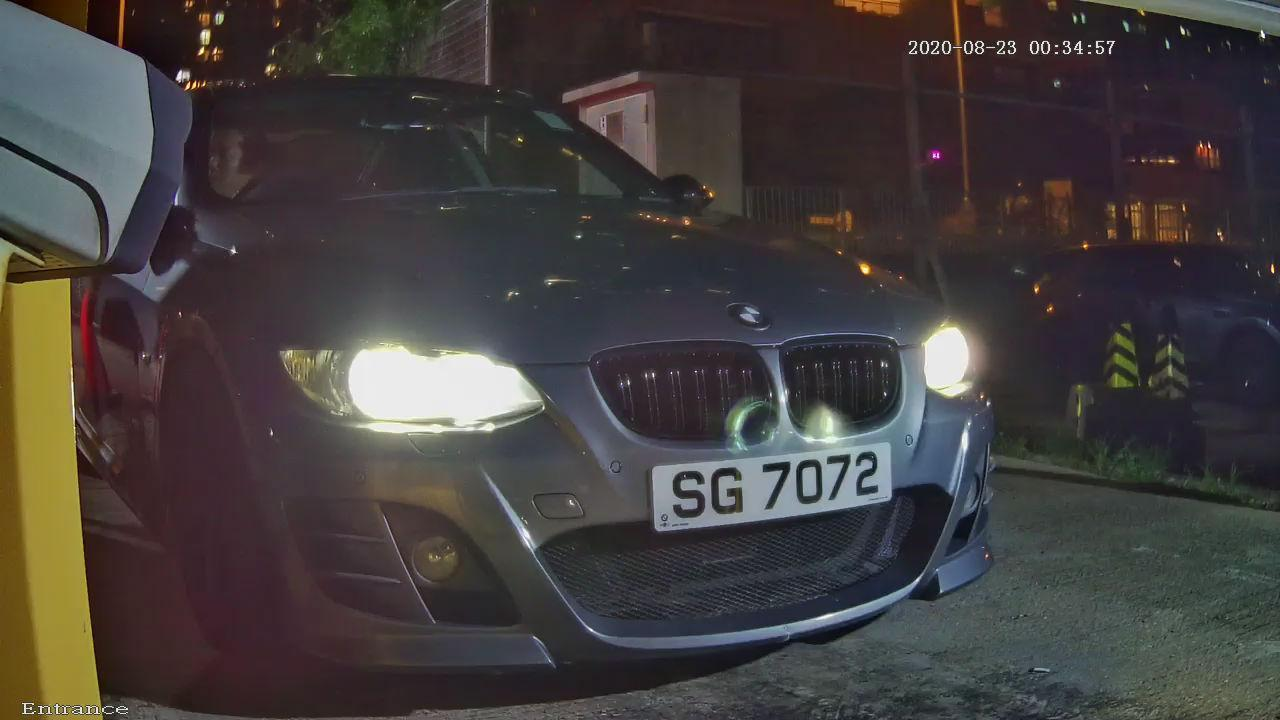Car: (86, 10, 1069, 717)
License Plate: (599, 401, 930, 589)
